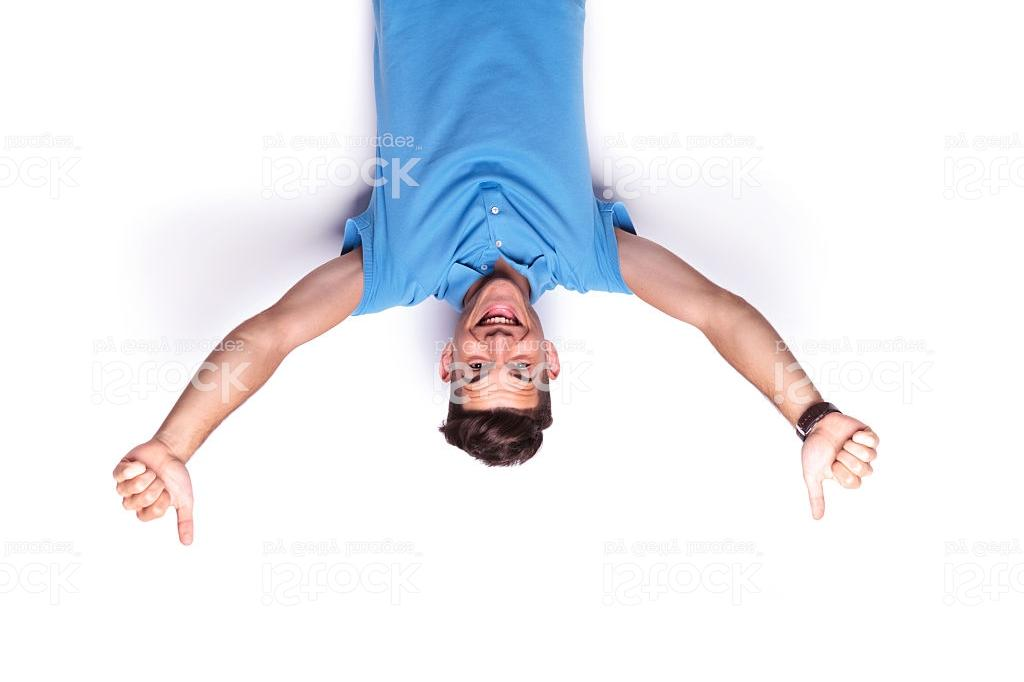thumbsdown: (112, 439, 196, 546), (800, 413, 880, 522)
